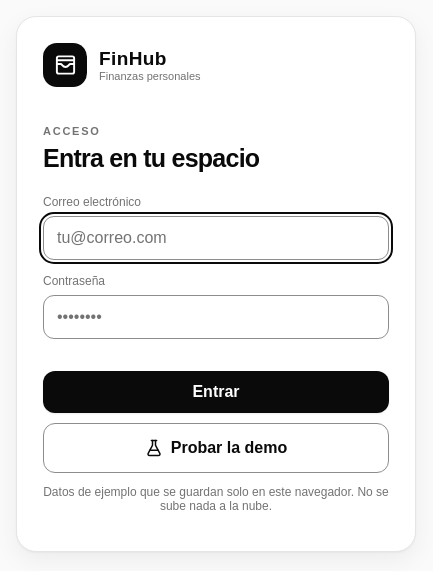
pantalla de login › deshabilita el botón mientras se envía
This screenshot has width=433, height=571.
Type "yo@correo.com" into the field labelled "Correo electrónico" at (216, 238), box [43,216,389,260]
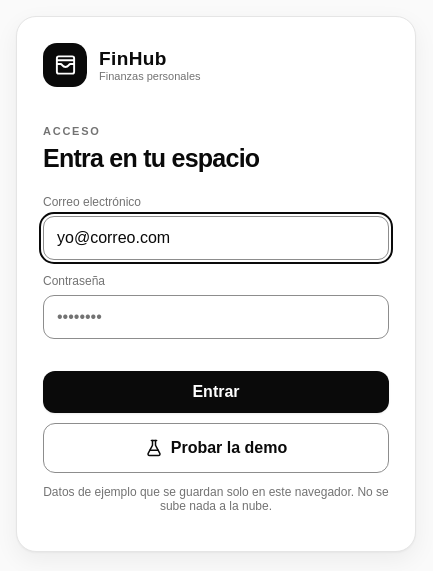
Type "secreta" into the password field labelled "Contraseña" at (216, 317), box [43,295,389,339]
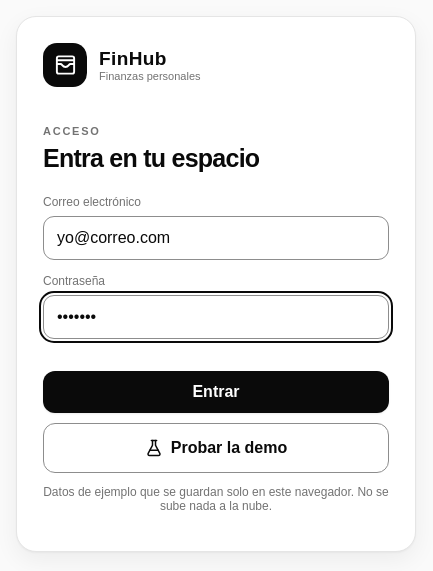
Click the button "Entrar" at (216, 392), box [43,371,389,413]
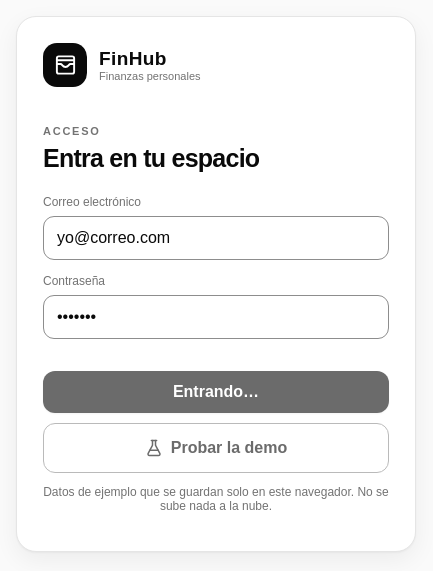
Expected: the button "Entrando…" is disabled, [43,371,389,413]
